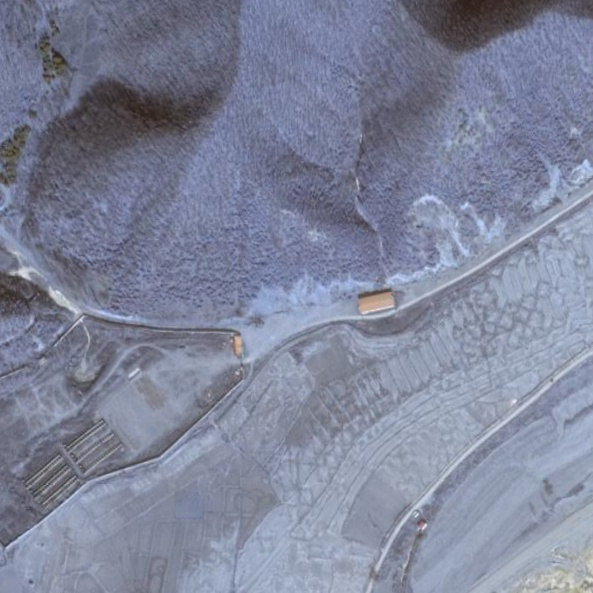slope: (242, 192, 510, 315), (526, 151, 592, 211)
